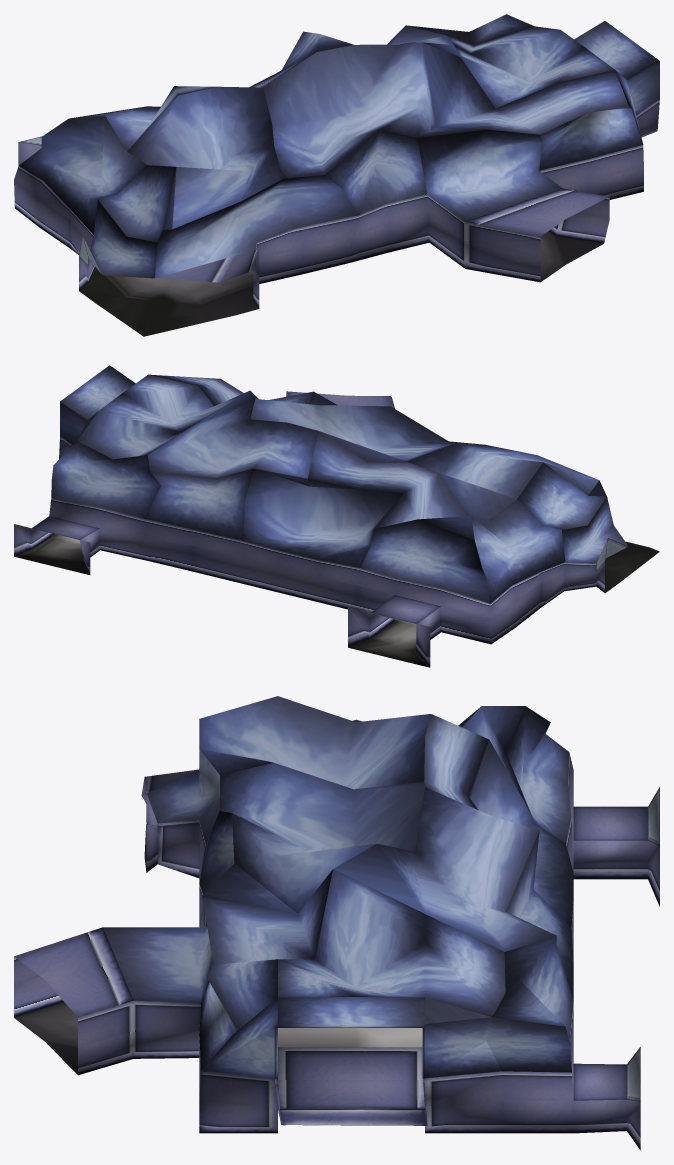
The model's file is bunker_dungeon_entrance_hallway.DAE.
3 views of the same model, one above another, from view 1: azimuth 30°, elevation 25°; view 2: azimuth 150°, elevation 25°; view 3: azimuth 270°, elevation 25° (orthographic). The views are drawn at different scales.
Visible parts, largest first — view 1: Box05; view 2: Box05; view 3: Box05.
Part boxes in pixels (x1,y1,x2,y2): Box05: (14,14,659,336); Box05: (14,365,659,667); Box05: (14,696,659,1150).
Bounding box in the file's own units: 162 × 40.71 × 119.
